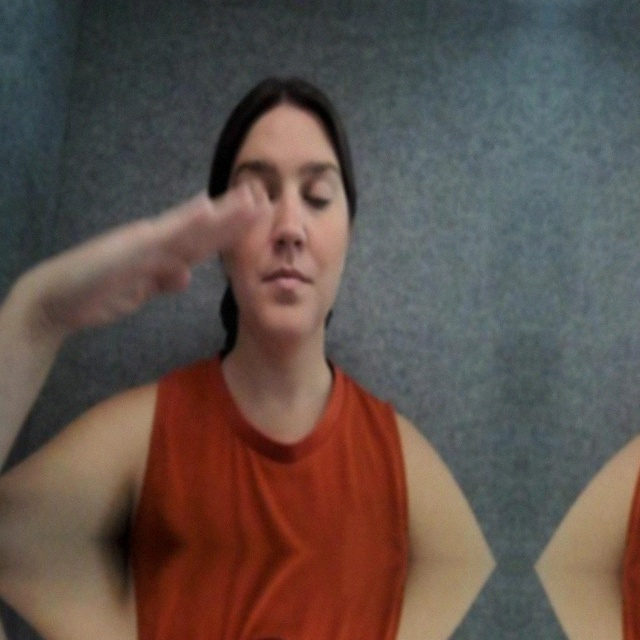Paper: (21, 165, 262, 353)
